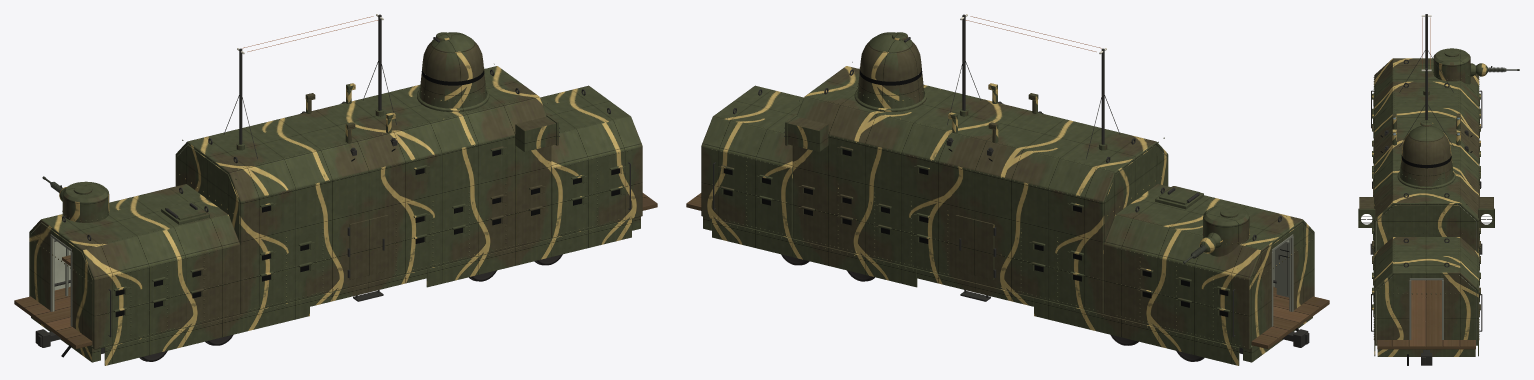
File: command_car.glb
3 views of the same model, side by side, from view 1: azimuth 30°, elevation 25°; view 2: azimuth 150°, elevation 25°; view 3: azimuth 270°, elevation 25° (orthographic). The views are drawn at different scales.
Visible parts, largest first — view 1: HullHighShell, HullRearShell, HullFrontShell, SkirtsAndJacks, HullHighDetails, HullRearInterior, Cupola, HullHighInterior, MgCupola, HullRearDetails, HullHighRivets, Underframe (+1 smaller); view 2: HullHighShell, HullRearShell, HullFrontShell, SkirtsAndJacks, HullHighDetails, HullRearInterior, Cupola, HullHighInterior, MgCupola, HullRearDetails, HullHighRivets, Underframe (+1 smaller); view 3: HullHighShell, HullFrontInterior, HullFrontShell, HullHighInterior, Cupola, HullHighDetails, HullRearShell, MgCupola, Underframe, HullHighRivets, HullFrontDetails, HullRearDetails (+2 smaller).
Boxes of the visible parts, box(x1,y1,x2,y2) form: HullHighShell: box(175, 66, 551, 313); HullRearShell: box(29, 184, 240, 349); HullFrontShell: box(540, 85, 642, 238); SkirtsAndJacks: box(104, 219, 631, 365); HullHighDetails: box(208, 14, 559, 301); HullRearInterior: box(14, 223, 92, 348); Cupola: box(417, 32, 489, 111); HullHighInterior: box(177, 101, 397, 241); MgCupola: box(62, 181, 109, 222); HullRearDetails: box(62, 187, 209, 337); HullHighRivets: box(179, 64, 547, 311); Underframe: box(31, 216, 640, 362); HullHighShell: box(792, 66, 1168, 313); HullRearShell: box(1103, 184, 1314, 349); HullFrontShell: box(701, 85, 803, 238); SkirtsAndJacks: box(712, 219, 1239, 365); HullHighDetails: box(784, 14, 1135, 301); HullRearInterior: box(1251, 223, 1329, 348); Cupola: box(854, 32, 926, 111); HullHighInterior: box(946, 101, 1166, 241); MgCupola: box(1202, 205, 1249, 256); HullRearDetails: box(1135, 186, 1281, 337); HullHighRivets: box(799, 62, 1164, 311); Underframe: box(703, 216, 1312, 362); HullHighShell: box(1374, 81, 1478, 253); HullFrontInterior: box(1377, 274, 1476, 349); HullFrontShell: box(1374, 237, 1478, 345); HullHighInterior: box(1377, 130, 1476, 297); Cupola: box(1397, 120, 1455, 189); HullHighDetails: box(1358, 14, 1494, 285); HullRearShell: box(1374, 58, 1478, 98); MgCupola: box(1433, 48, 1470, 84); Underframe: box(1377, 349, 1475, 365); HullHighRivets: box(1373, 83, 1479, 304); HullFrontDetails: box(1371, 238, 1482, 331); HullRearDetails: box(1371, 59, 1482, 150).
Size of the model in its own units: 16.32 by 7.23 by 4.77.
Materials: 16 (3 with a texture image).
